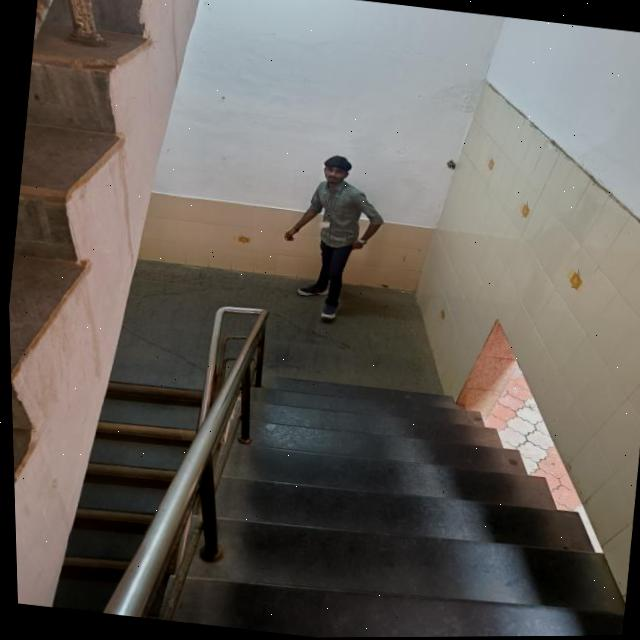id_card: (310, 185, 338, 233)
